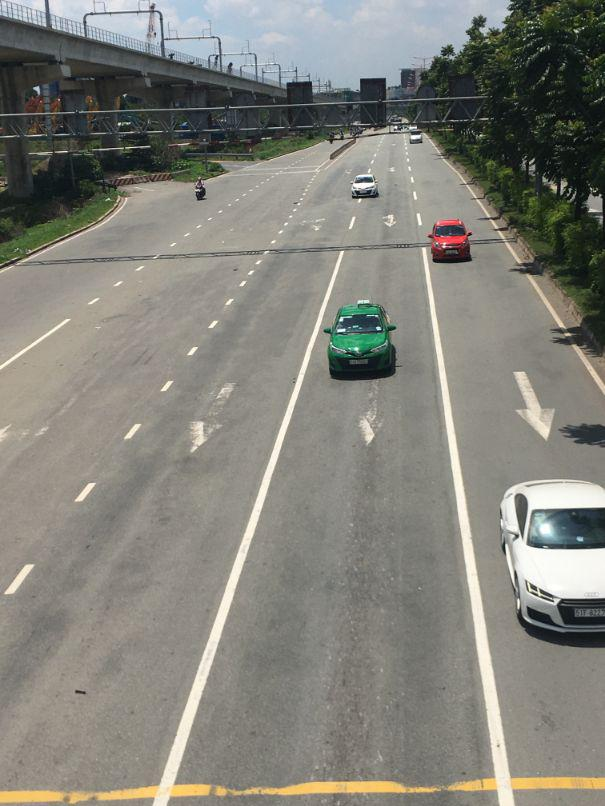car: (499, 480, 605, 638), (325, 300, 398, 382), (429, 219, 472, 265), (351, 172, 378, 199), (409, 127, 423, 143)
